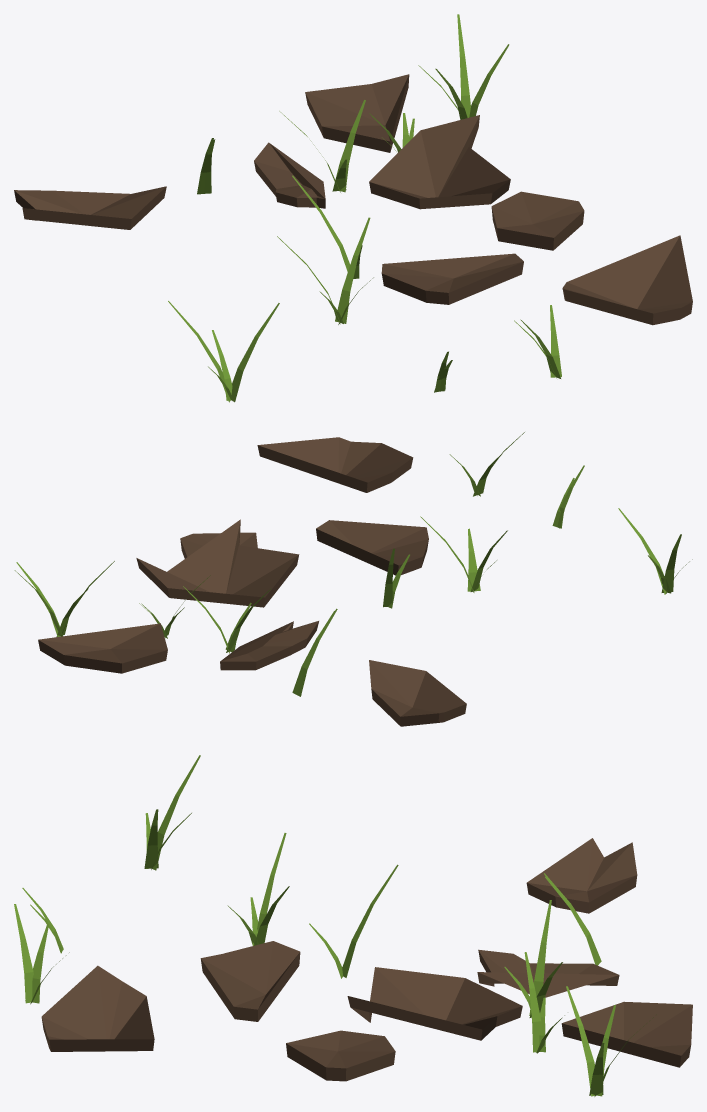
The model's file is desert_debris_0.glb.
The picture shows the model from 3 angles, top to bottom: view 1: azimuth 30°, elevation 25°; view 2: azimuth 150°, elevation 25°; view 3: azimuth 270°, elevation 25°; orthographic projection. The views are drawn at different scales.
Visible parts, largest first — view 1: DesertDebris_Plates, DesertDebris_Sprout_2, DesertDebris_Sprout_0, DesertDebris_Sprout_3, DesertDebris_Sprout_1, DesertDebris_Sprout_7; view 2: DesertDebris_Plates, DesertDebris_Sprout_0, DesertDebris_Sprout_3, DesertDebris_Sprout_2, DesertDebris_Sprout_5, DesertDebris_Sprout_6, DesertDebris_Sprout_1; view 3: DesertDebris_Plates, DesertDebris_Sprout_2, DesertDebris_Sprout_0, DesertDebris_Sprout_7, DesertDebris_Sprout_3, DesertDebris_Sprout_1, DesertDebris_Sprout_8, DesertDebris_Sprout_5, DesertDebris_Sprout_6.
Boxes of the visible parts, x1=… form: DesertDebris_Plates: x1=14, y1=74, x2=692, y2=325; DesertDebris_Sprout_2: x1=418, y1=14, x2=509, y2=119; DesertDebris_Sprout_0: x1=168, y1=301, x2=279, y2=402; DesertDebris_Sprout_3: x1=277, y1=217, x2=373, y2=324; DesertDebris_Sprout_1: x1=279, y1=100, x2=365, y2=192; DesertDebris_Sprout_7: x1=514, y1=305, x2=561, y2=378; DesertDebris_Plates: x1=38, y1=437, x2=466, y2=726; DesertDebris_Sprout_0: x1=618, y1=508, x2=692, y2=594; DesertDebris_Sprout_3: x1=420, y1=516, x2=507, y2=592; DesertDebris_Sprout_2: x1=14, y1=561, x2=114, y2=637; DesertDebris_Sprout_5: x1=383, y1=548, x2=409, y2=608; DesertDebris_Sprout_6: x1=292, y1=608, x2=337, y2=696; DesertDebris_Sprout_1: x1=183, y1=586, x2=271, y2=653; DesertDebris_Plates: x1=41, y1=838, x2=692, y2=1081; DesertDebris_Sprout_2: x1=566, y1=986, x2=656, y2=1096; DesertDebris_Sprout_0: x1=144, y1=755, x2=200, y2=870; DesertDebris_Sprout_7: x1=14, y1=904, x2=69, y2=1004; DesertDebris_Sprout_3: x1=227, y1=833, x2=289, y2=945; DesertDebris_Sprout_1: x1=504, y1=900, x2=562, y2=1017; DesertDebris_Sprout_8: x1=524, y1=952, x2=564, y2=1053; DesertDebris_Sprout_5: x1=309, y1=864, x2=398, y2=978; DesertDebris_Sprout_6: x1=544, y1=873, x2=601, y2=965.
Bounding box in the file's own units: 1.2 × 0.1974 × 1.28.
